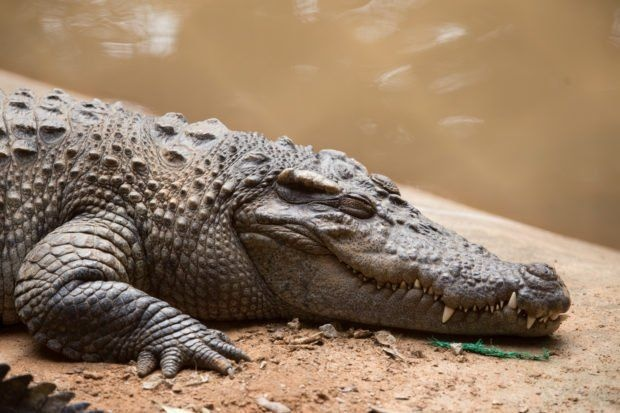crocodile: (0, 73, 579, 411)
